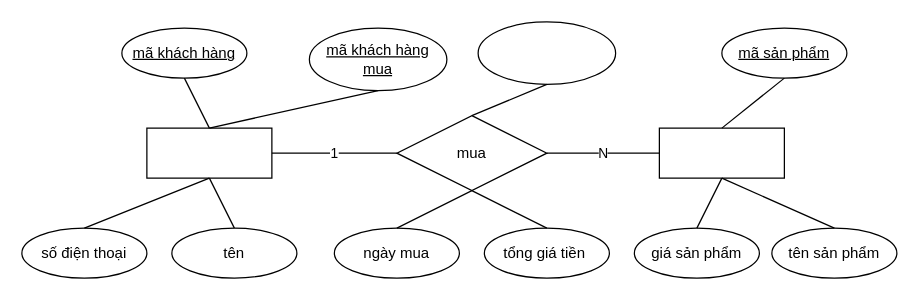
Some shapes in this 919 by 300 pixel diagram are drawn without their labels. The shapes that lost their labels are listed below. From the top down, each one's centre as x and y in pixels, then its label:
the point at 546,52: mã sản phẩm mua
the point at 209,152: khách hàng
the point at 721,152: sản phẩm
